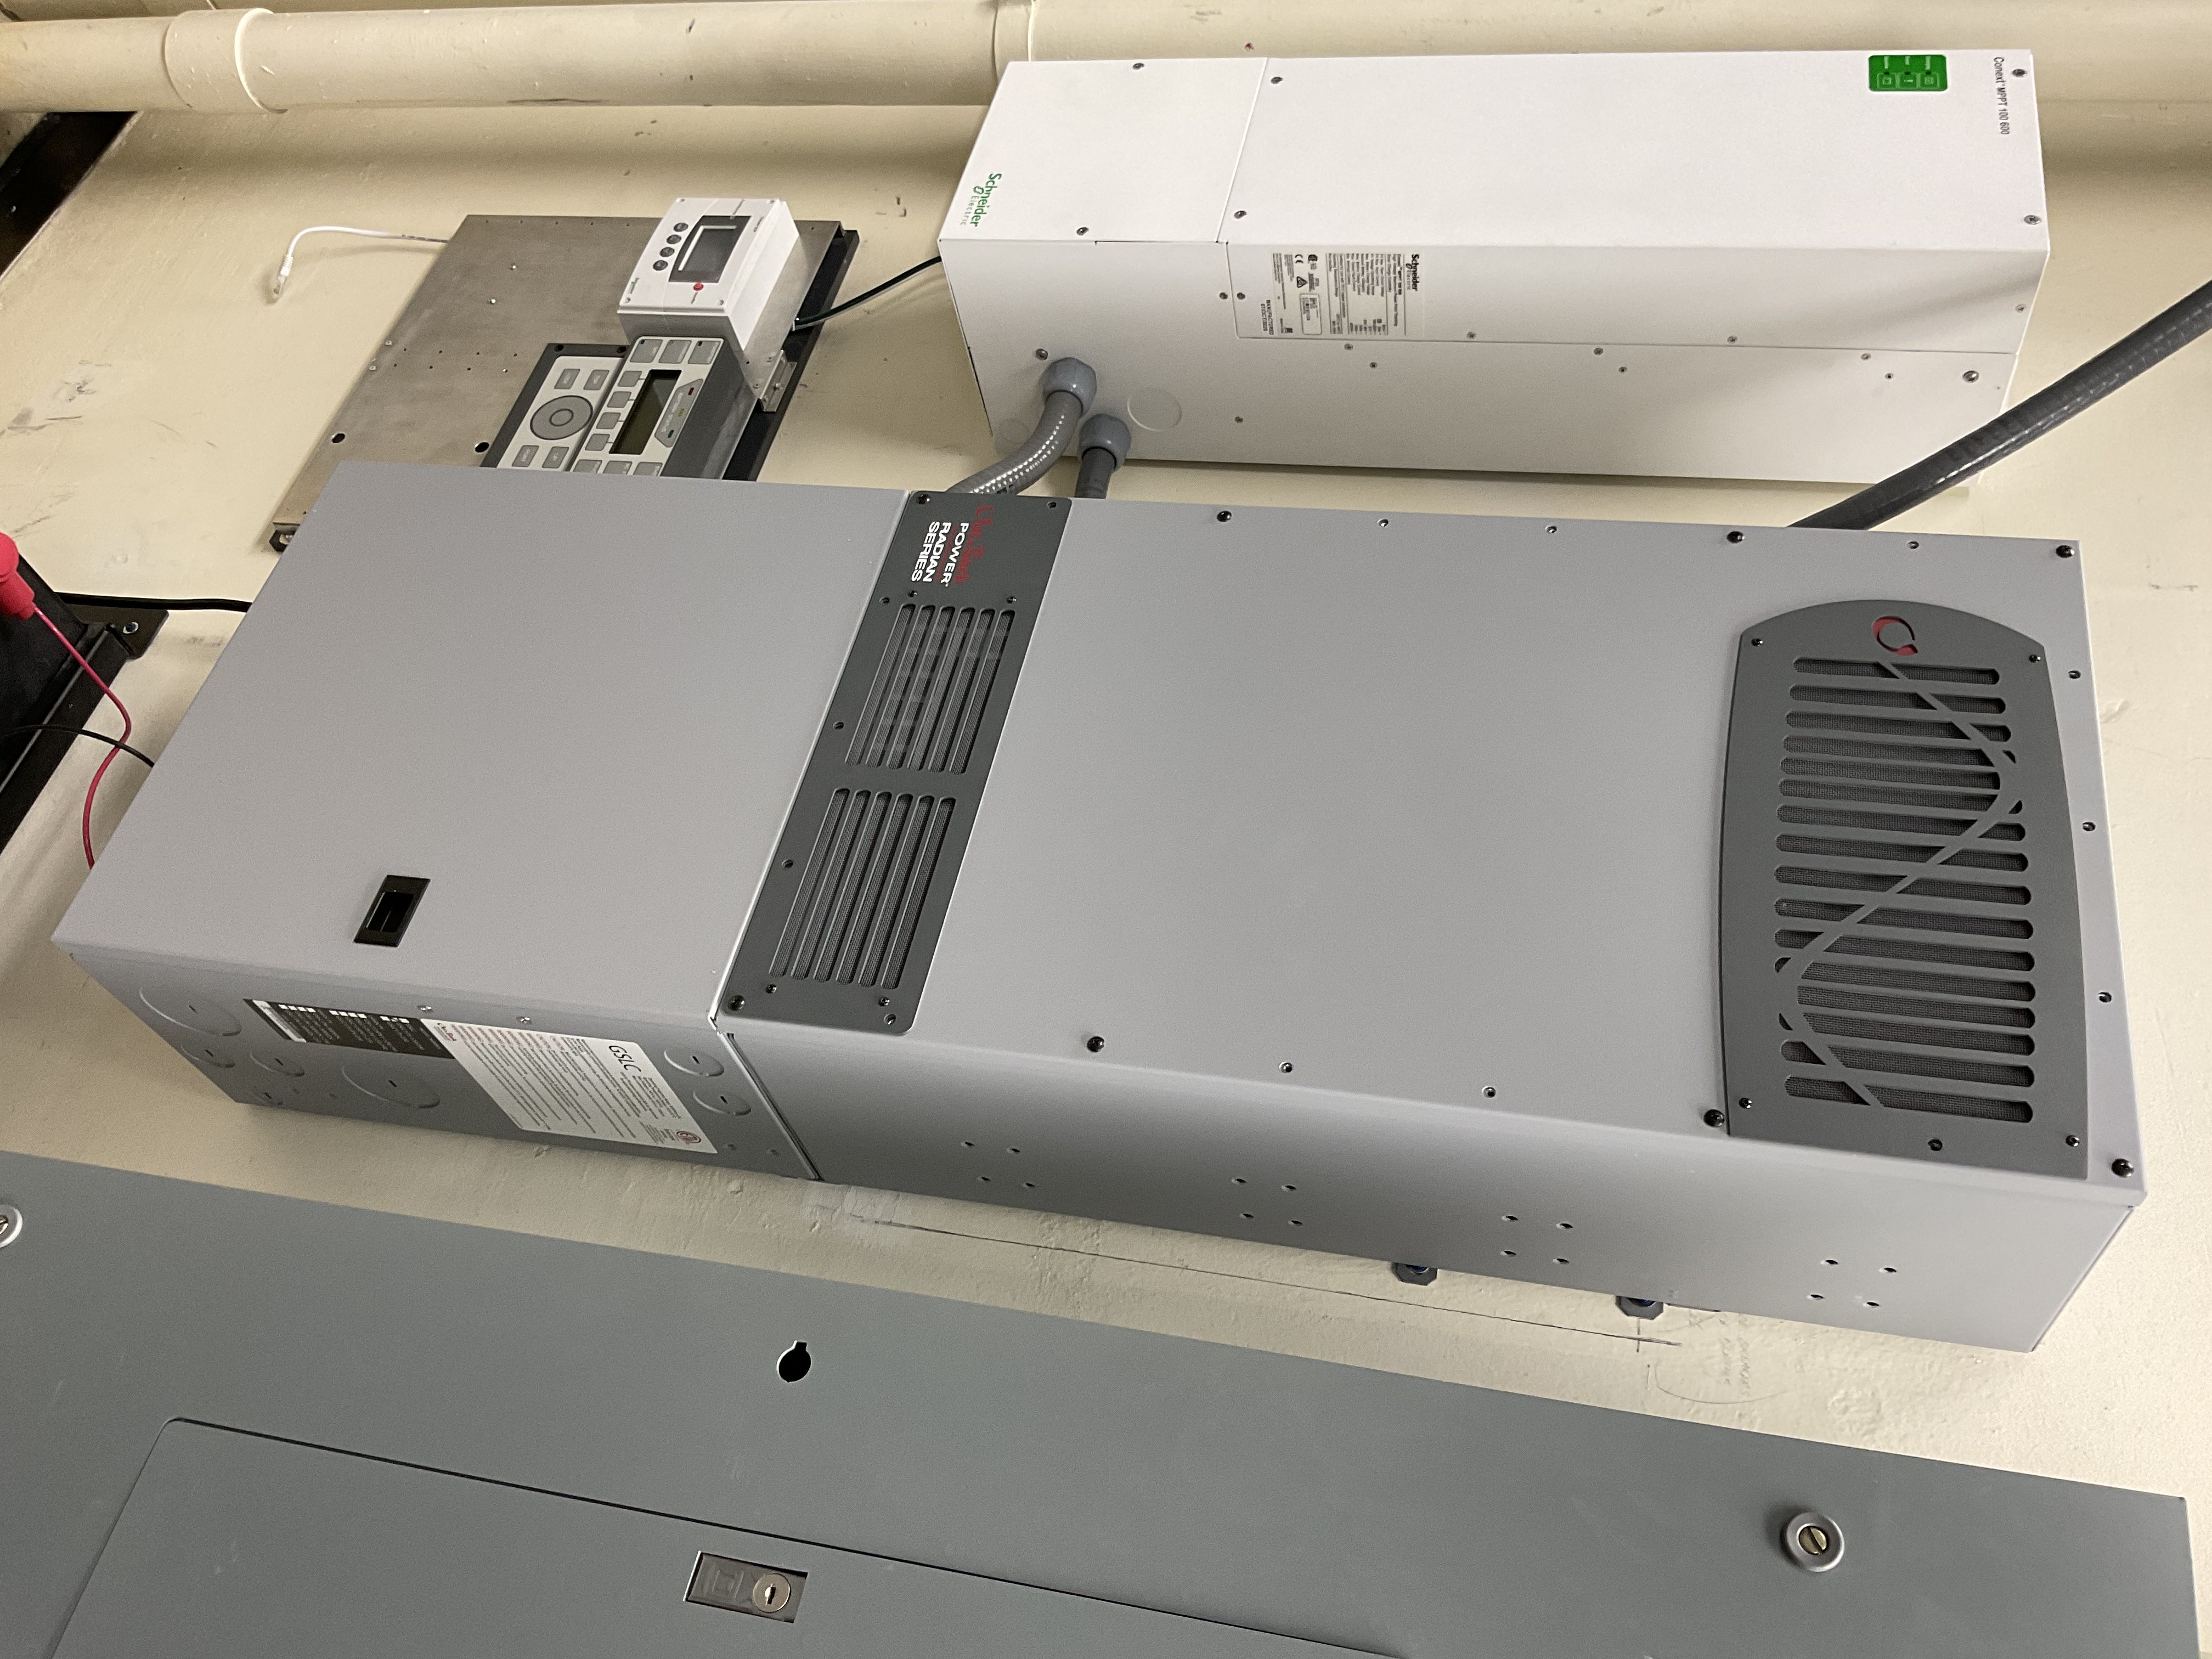charge_controller: (937, 45, 2088, 484)
inverter: (45, 458, 2156, 1354)
